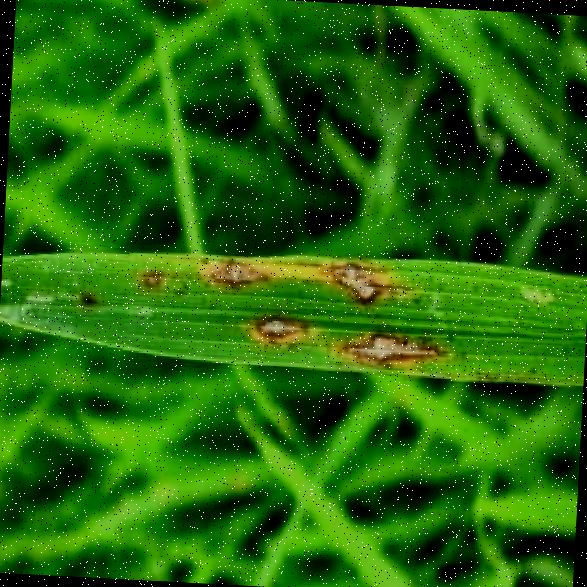Leaf_smut: (57, 246, 456, 376)
